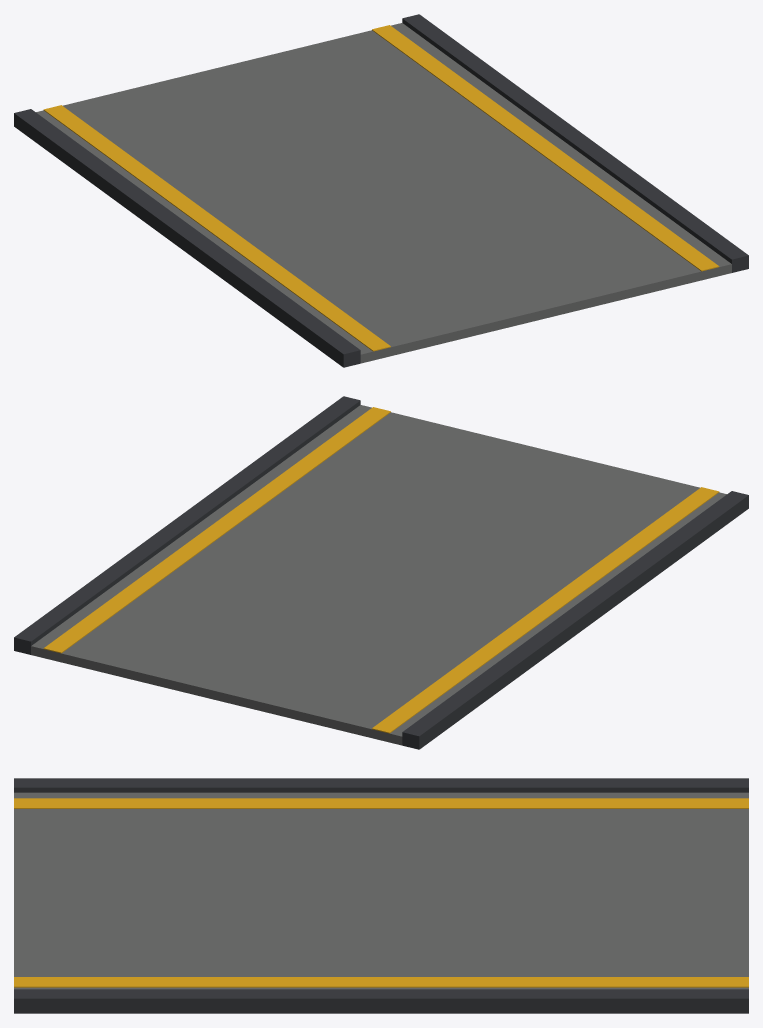
The model's file is road_industrial_v_straight_lod1.glb.
The picture shows the model from 3 angles, top to bottom: view 1: azimuth 30°, elevation 25°; view 2: azimuth 150°, elevation 25°; view 3: azimuth 270°, elevation 25°; orthographic projection. The views are drawn at different scales.
Visible parts, largest first — view 1: body; view 2: body; view 3: body.
Boxes of the visible parts, box(x1,y1,x2,y2) form: body: box(14, 14, 748, 367); body: box(14, 396, 748, 749); body: box(14, 778, 748, 1013).
Size of the model in its own units: 5.68 by 0.18 by 8.
